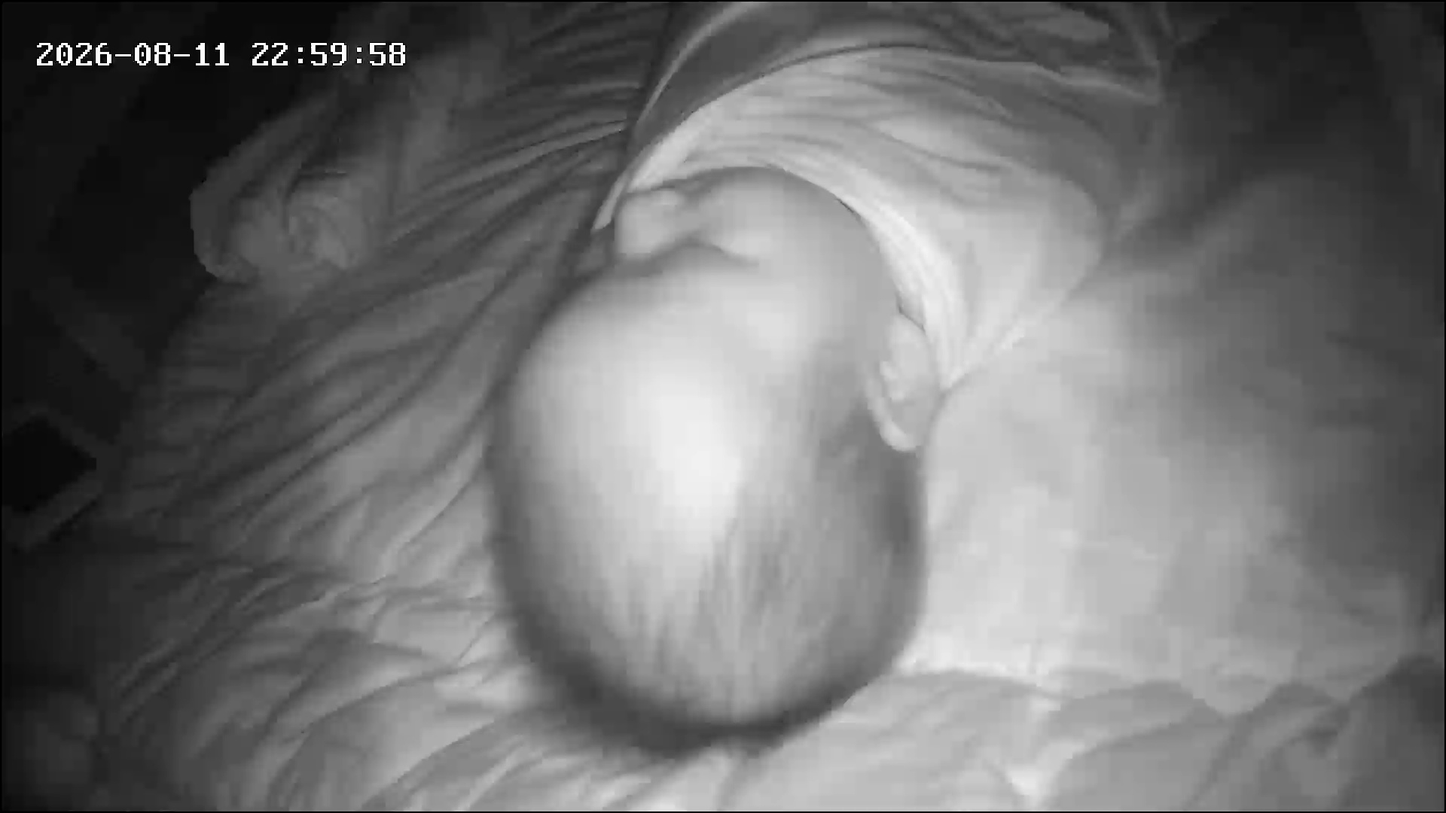baby: (0, 1, 1010, 788), (460, 2, 1185, 771)
baby_face: (485, 162, 952, 753)
